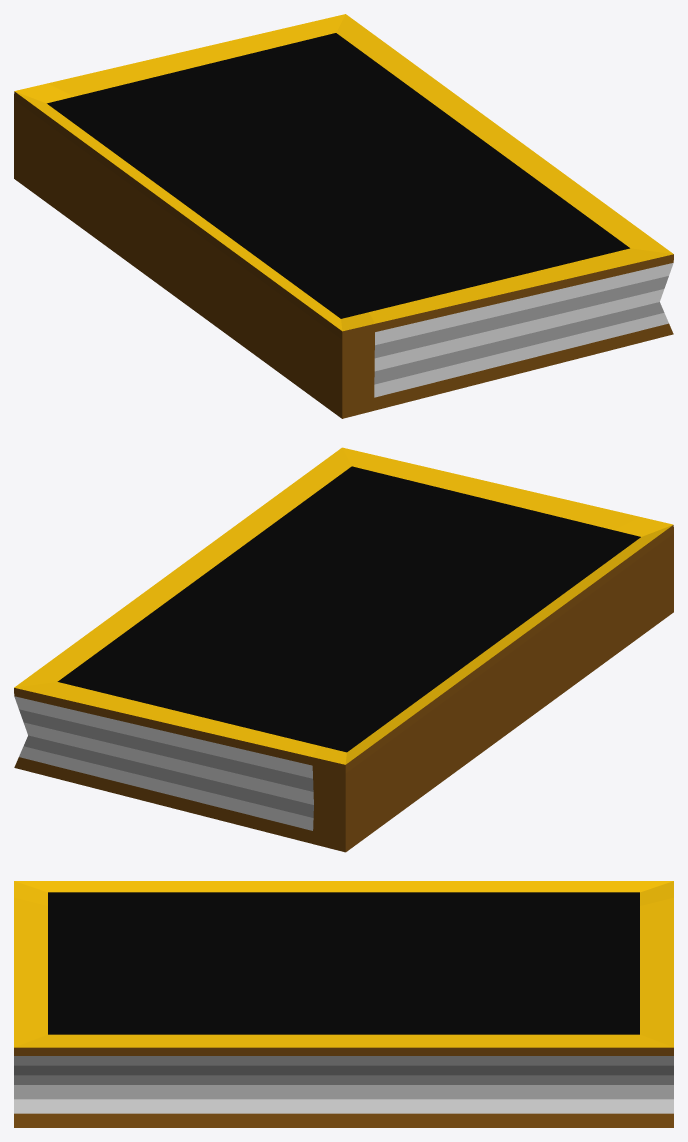
The model's file is Book.fbx.
The picture shows the model from 3 angles, top to bottom: view 1: azimuth 30°, elevation 25°; view 2: azimuth 150°, elevation 25°; view 3: azimuth 270°, elevation 25°; orthographic projection.
Visible parts, largest first — view 1: Book; view 2: Book; view 3: Book.
Part boxes in pixels (x1,y1,x2,y2): Book: [14, 14, 673, 418]; Book: [14, 447, 673, 852]; Book: [14, 881, 673, 1127].
Bounding box in the file's own units: 237 × 59.87 × 407.
